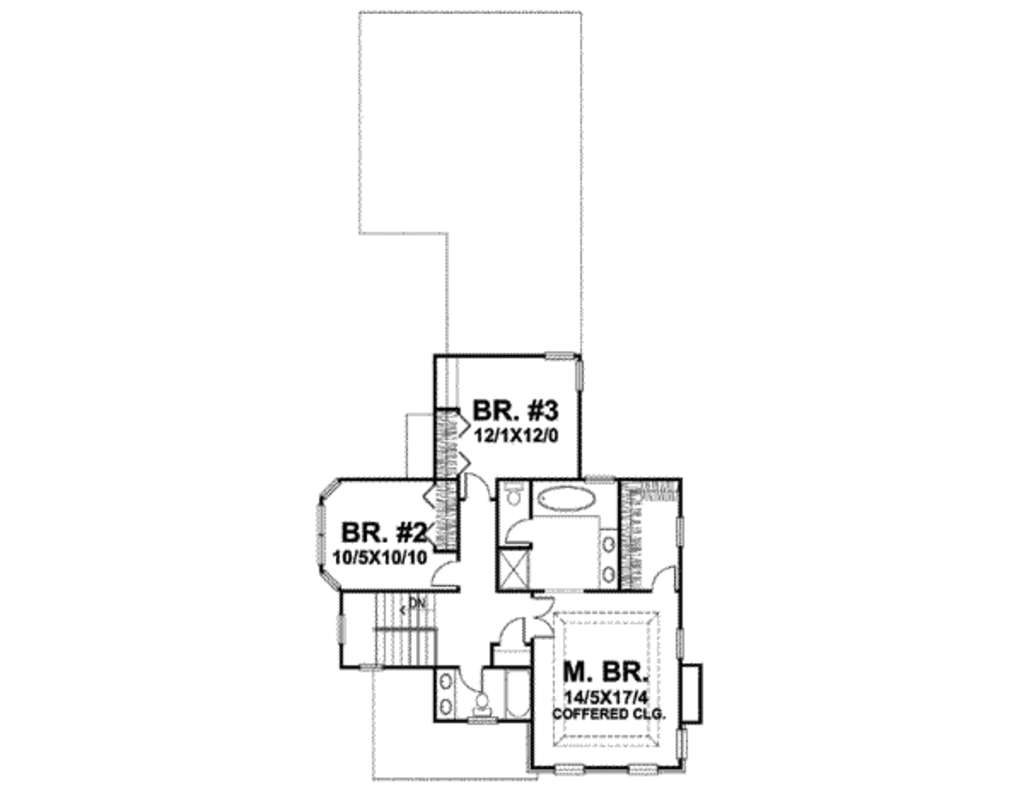door: (529, 592, 558, 642), (493, 614, 528, 648), (428, 557, 463, 587), (453, 660, 485, 691), (459, 471, 492, 501), (502, 516, 534, 544), (655, 565, 679, 595)
large_sink: (502, 478, 528, 504), (469, 694, 493, 720)
small_sink: (597, 527, 621, 592), (433, 668, 458, 718)
stairs: (340, 588, 441, 669)
tub: (528, 476, 599, 520)
windows: (308, 480, 349, 593), (548, 342, 593, 395), (668, 725, 690, 760), (670, 513, 687, 548), (672, 626, 688, 663)
